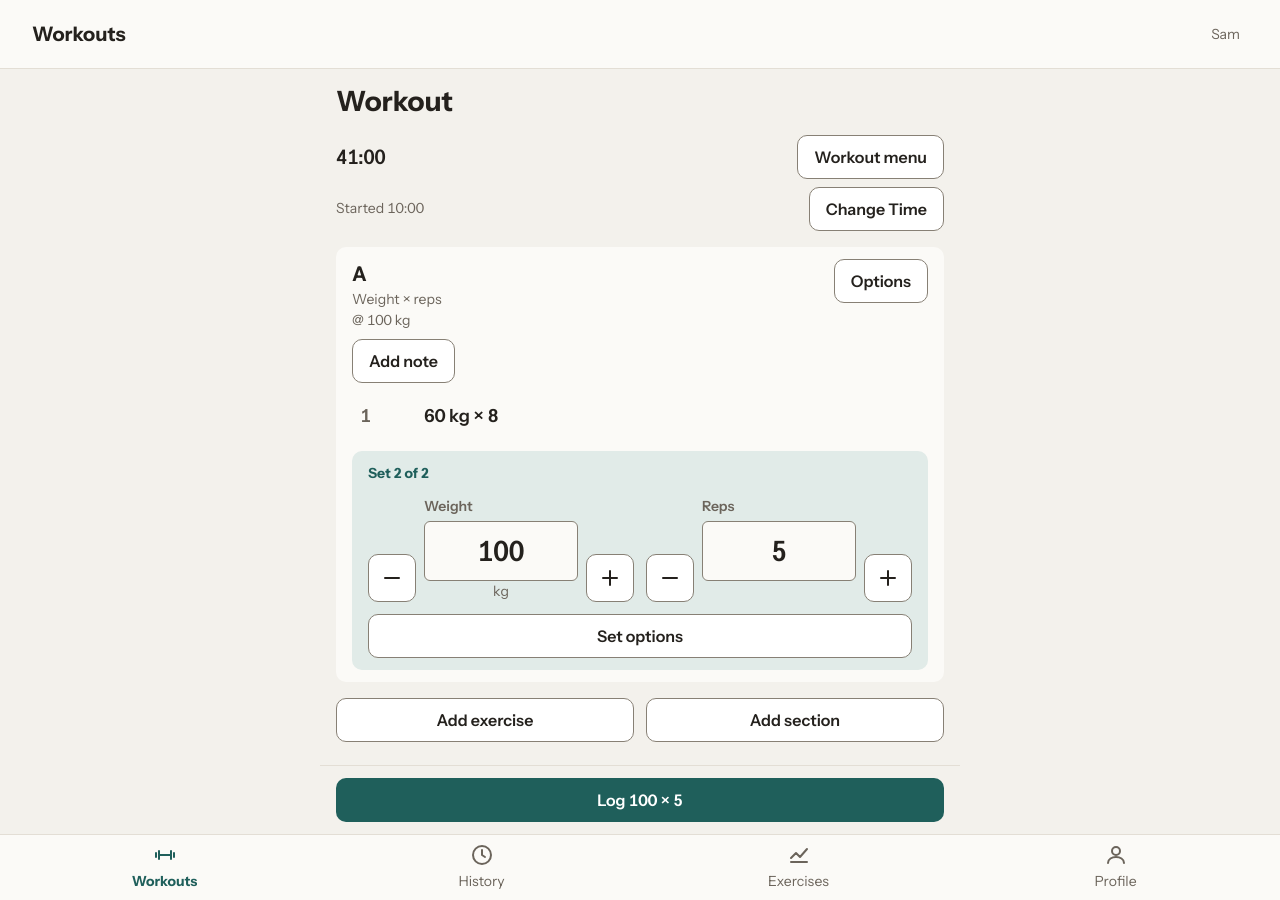
17.2 AC2 — End workout early: stats, flag, list, then the note › says '1 planned set not logged' for one
Expected: the heading "Workout" is shown, 336,84 -> 453,118
Click the button "Workout menu". click: (871, 157)
box: 797,135 -> 944,179
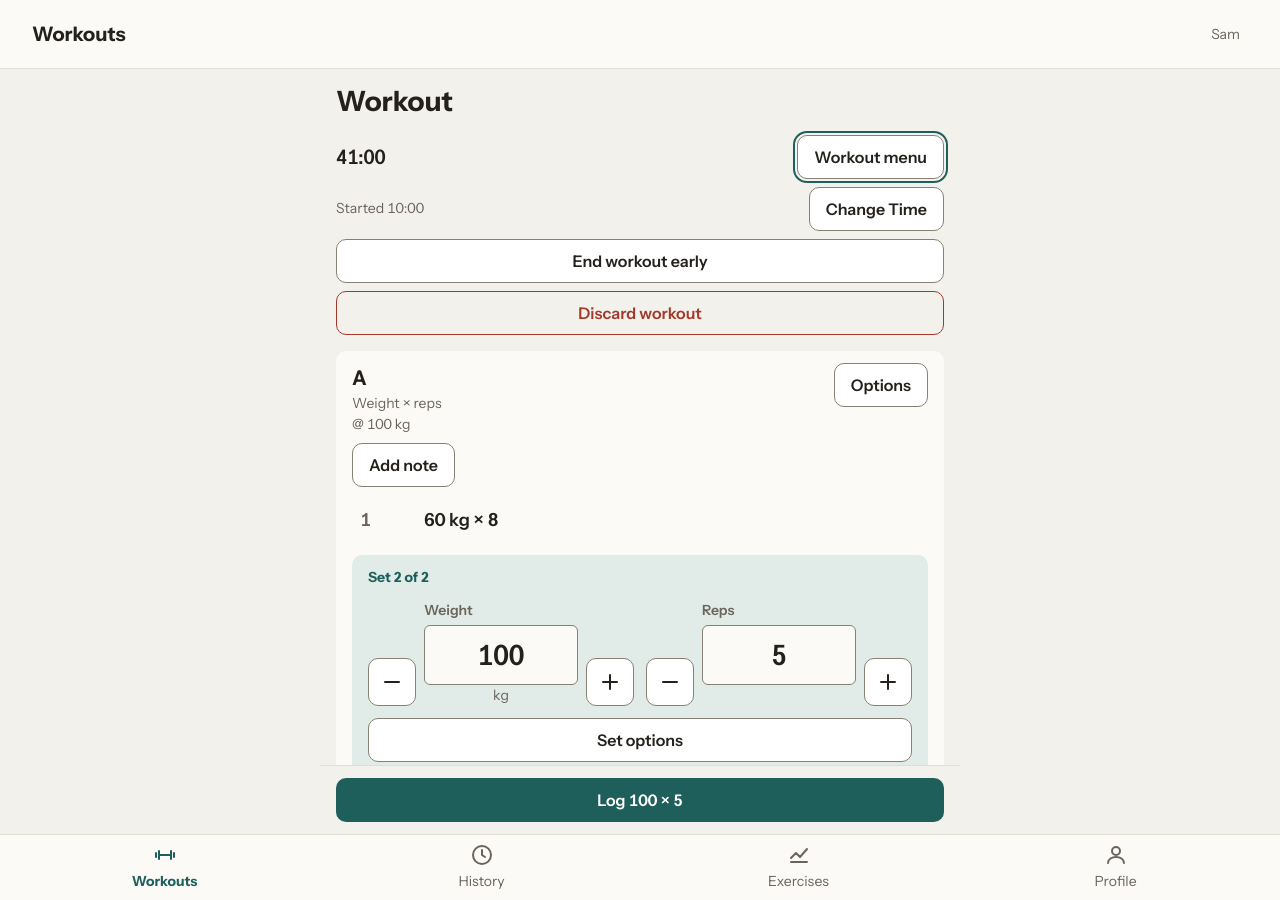
Click the button "End workout early". click: (640, 261)
box: 336,239 -> 944,283
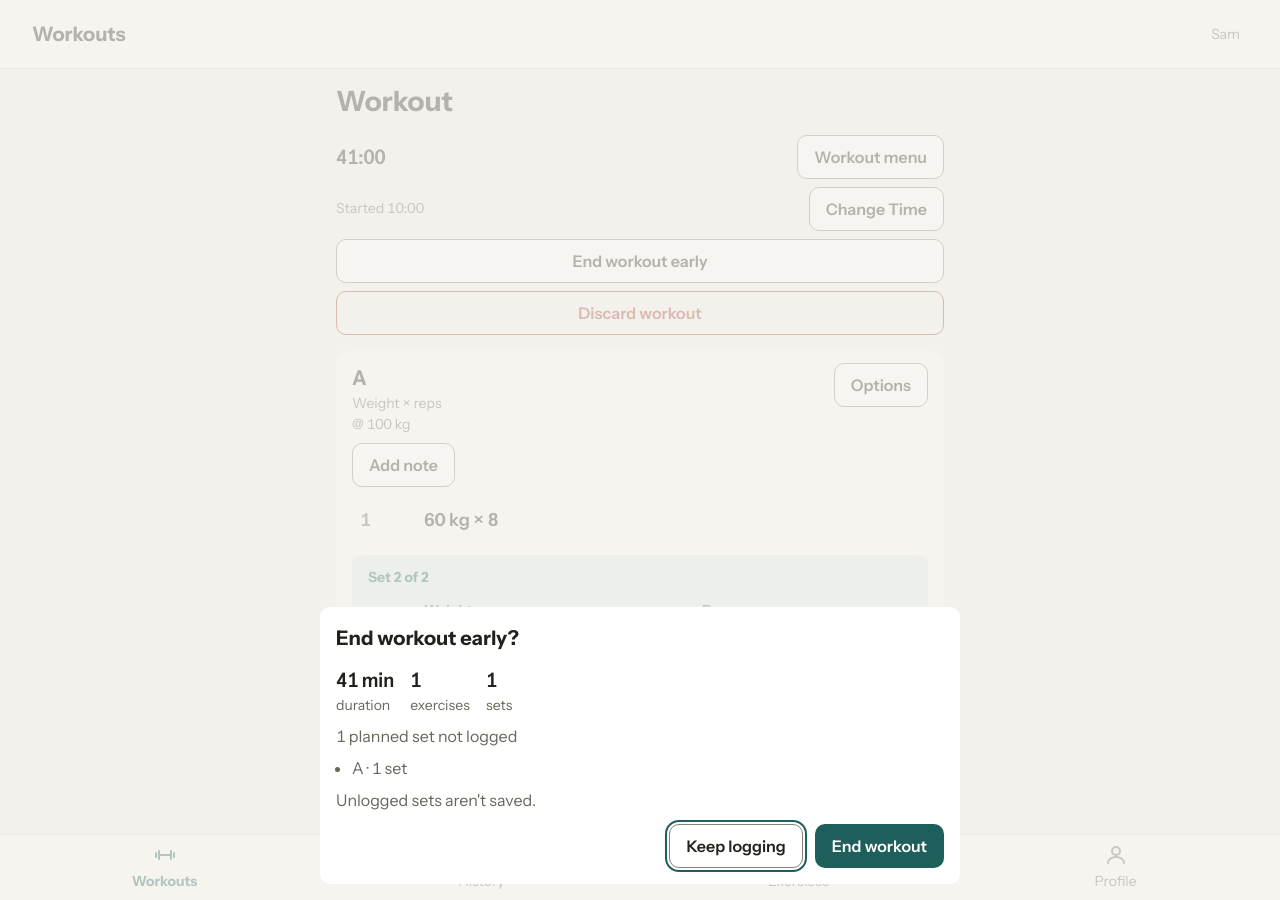
Expected: the text "1 planned set not logged" is shown, 336,726 -> 517,746
